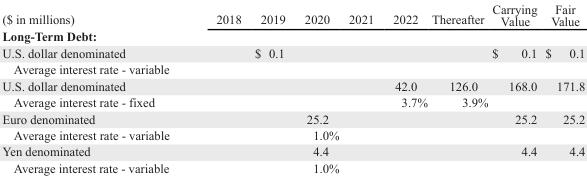table: (1, 1, 584, 174)
table column: (1, 1, 192, 174), (428, 1, 489, 174), (192, 1, 247, 174), (489, 1, 540, 174), (294, 1, 343, 174), (247, 1, 294, 174), (382, 1, 428, 174), (540, 1, 584, 174), (343, 1, 382, 174)
table column header: (1, 1, 584, 28)
table projected row header: (1, 60, 584, 77), (1, 28, 584, 44)
table row: (1, 1, 584, 28), (1, 60, 584, 77), (1, 93, 584, 110), (1, 142, 584, 159), (1, 28, 584, 44), (1, 44, 584, 60), (1, 77, 584, 93), (1, 110, 584, 126), (1, 126, 584, 142), (1, 159, 584, 174)
